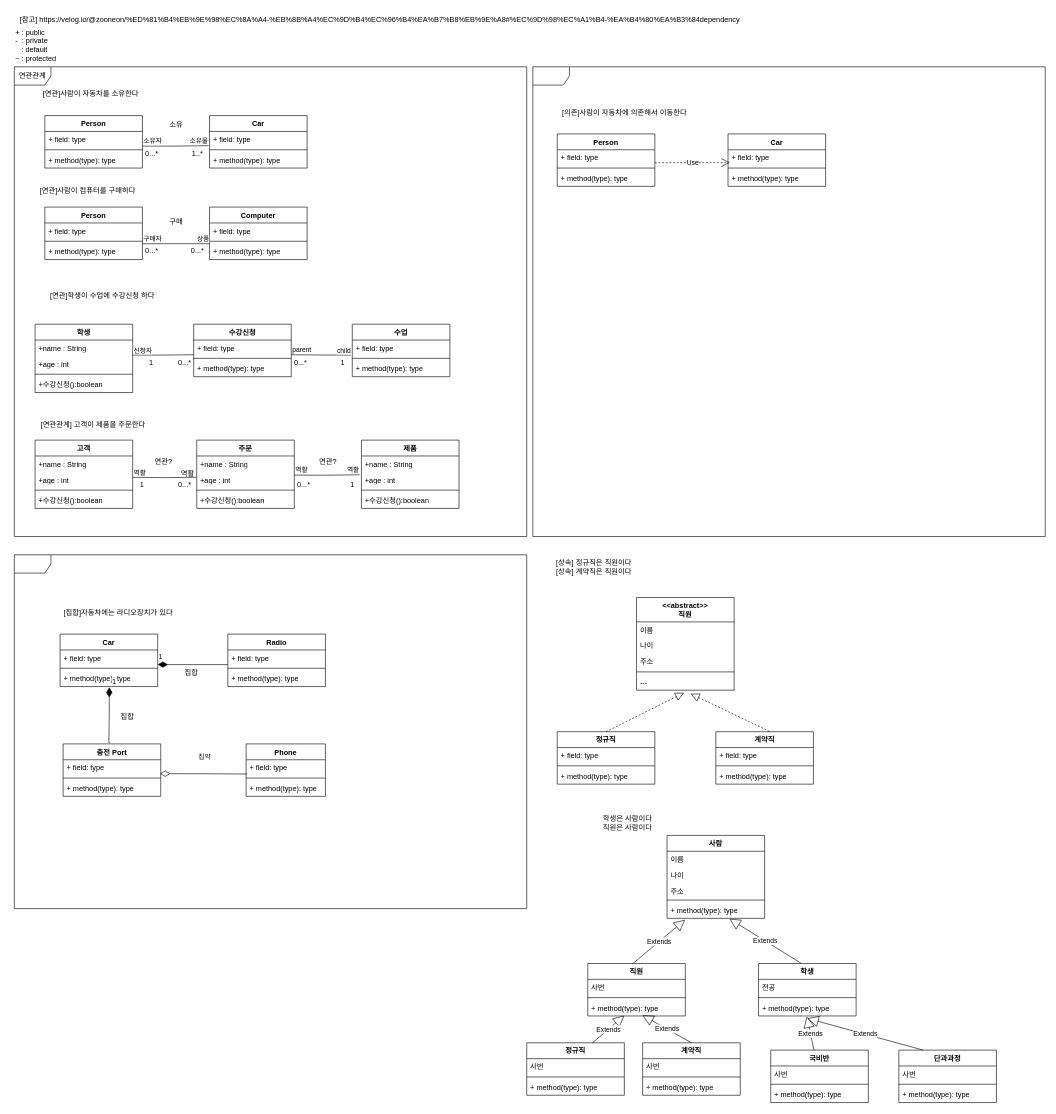
The diagram is 1056 pixels wide and 1114 high, and some of its shapes have lost their labels. Here are the shapes that lost their labels. From the top down, the centre of each, then its label:
At [788,301]: "의존관계".
At [270,731]: "집합/집약".
